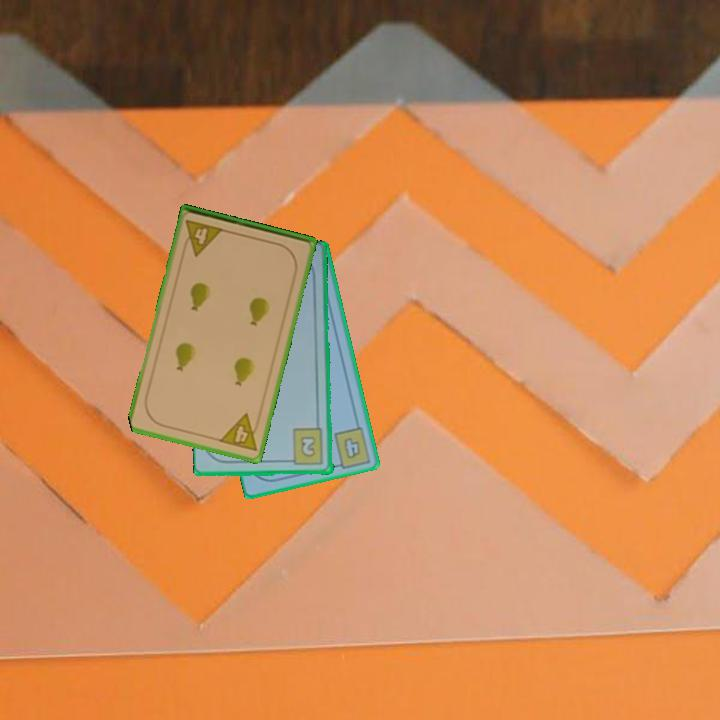2b: (284, 426, 326, 468)
4b: (330, 423, 374, 471)
4p: (215, 410, 264, 454), (179, 216, 226, 259)
